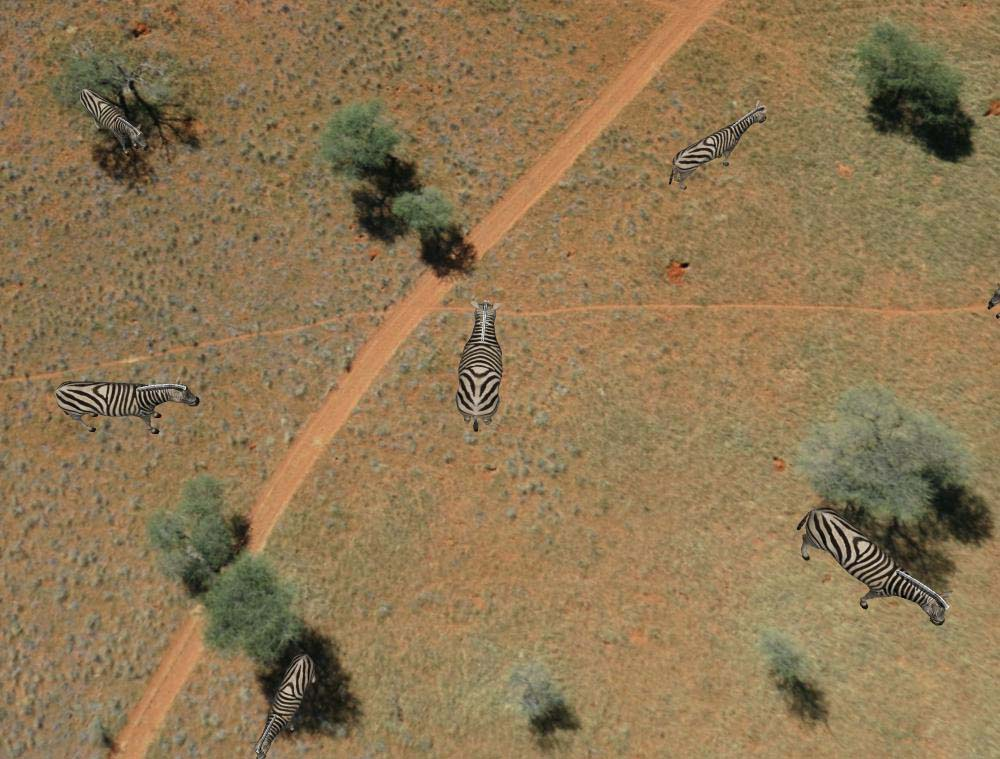zebra: (794, 499, 945, 639), (52, 365, 204, 442), (671, 104, 766, 188), (253, 645, 312, 759), (456, 294, 504, 434), (77, 75, 152, 161)
